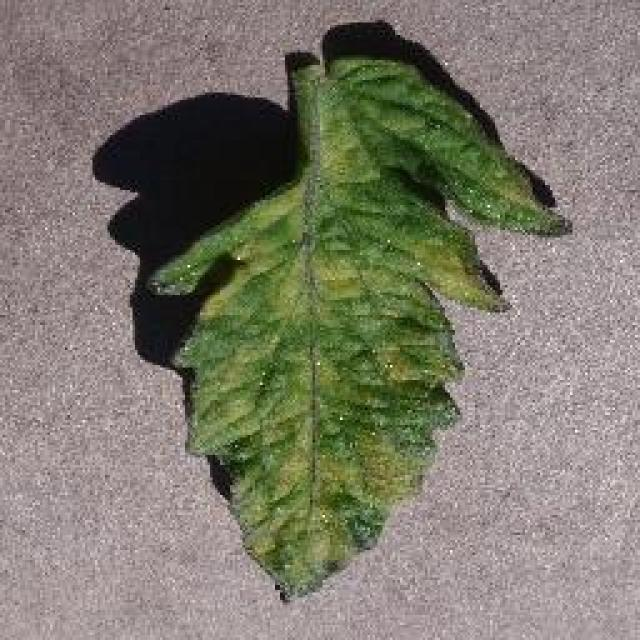Tomato___Leaf_Mold: (155, 58, 560, 592)
